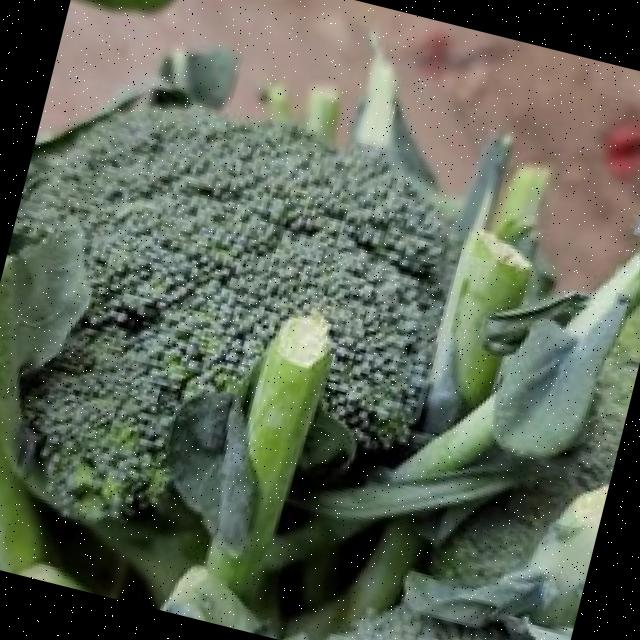Broccoli: (14, 103, 453, 516), (14, 106, 451, 515)
